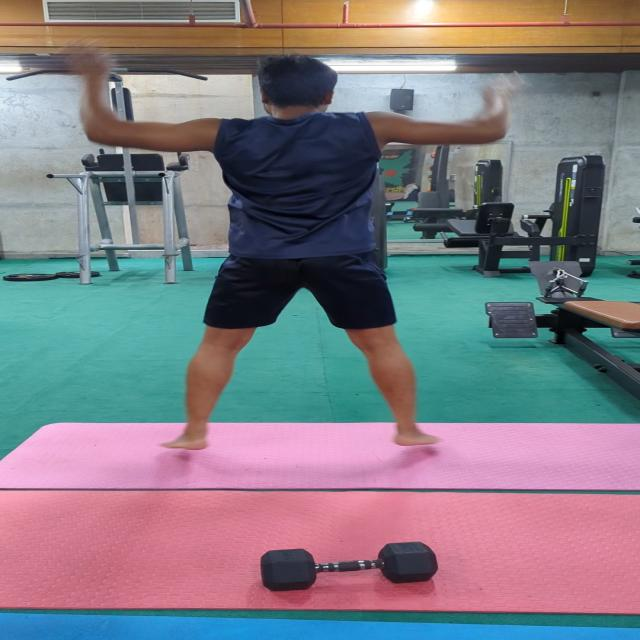Normal_JumpingJacks: (27, 25, 640, 481)
